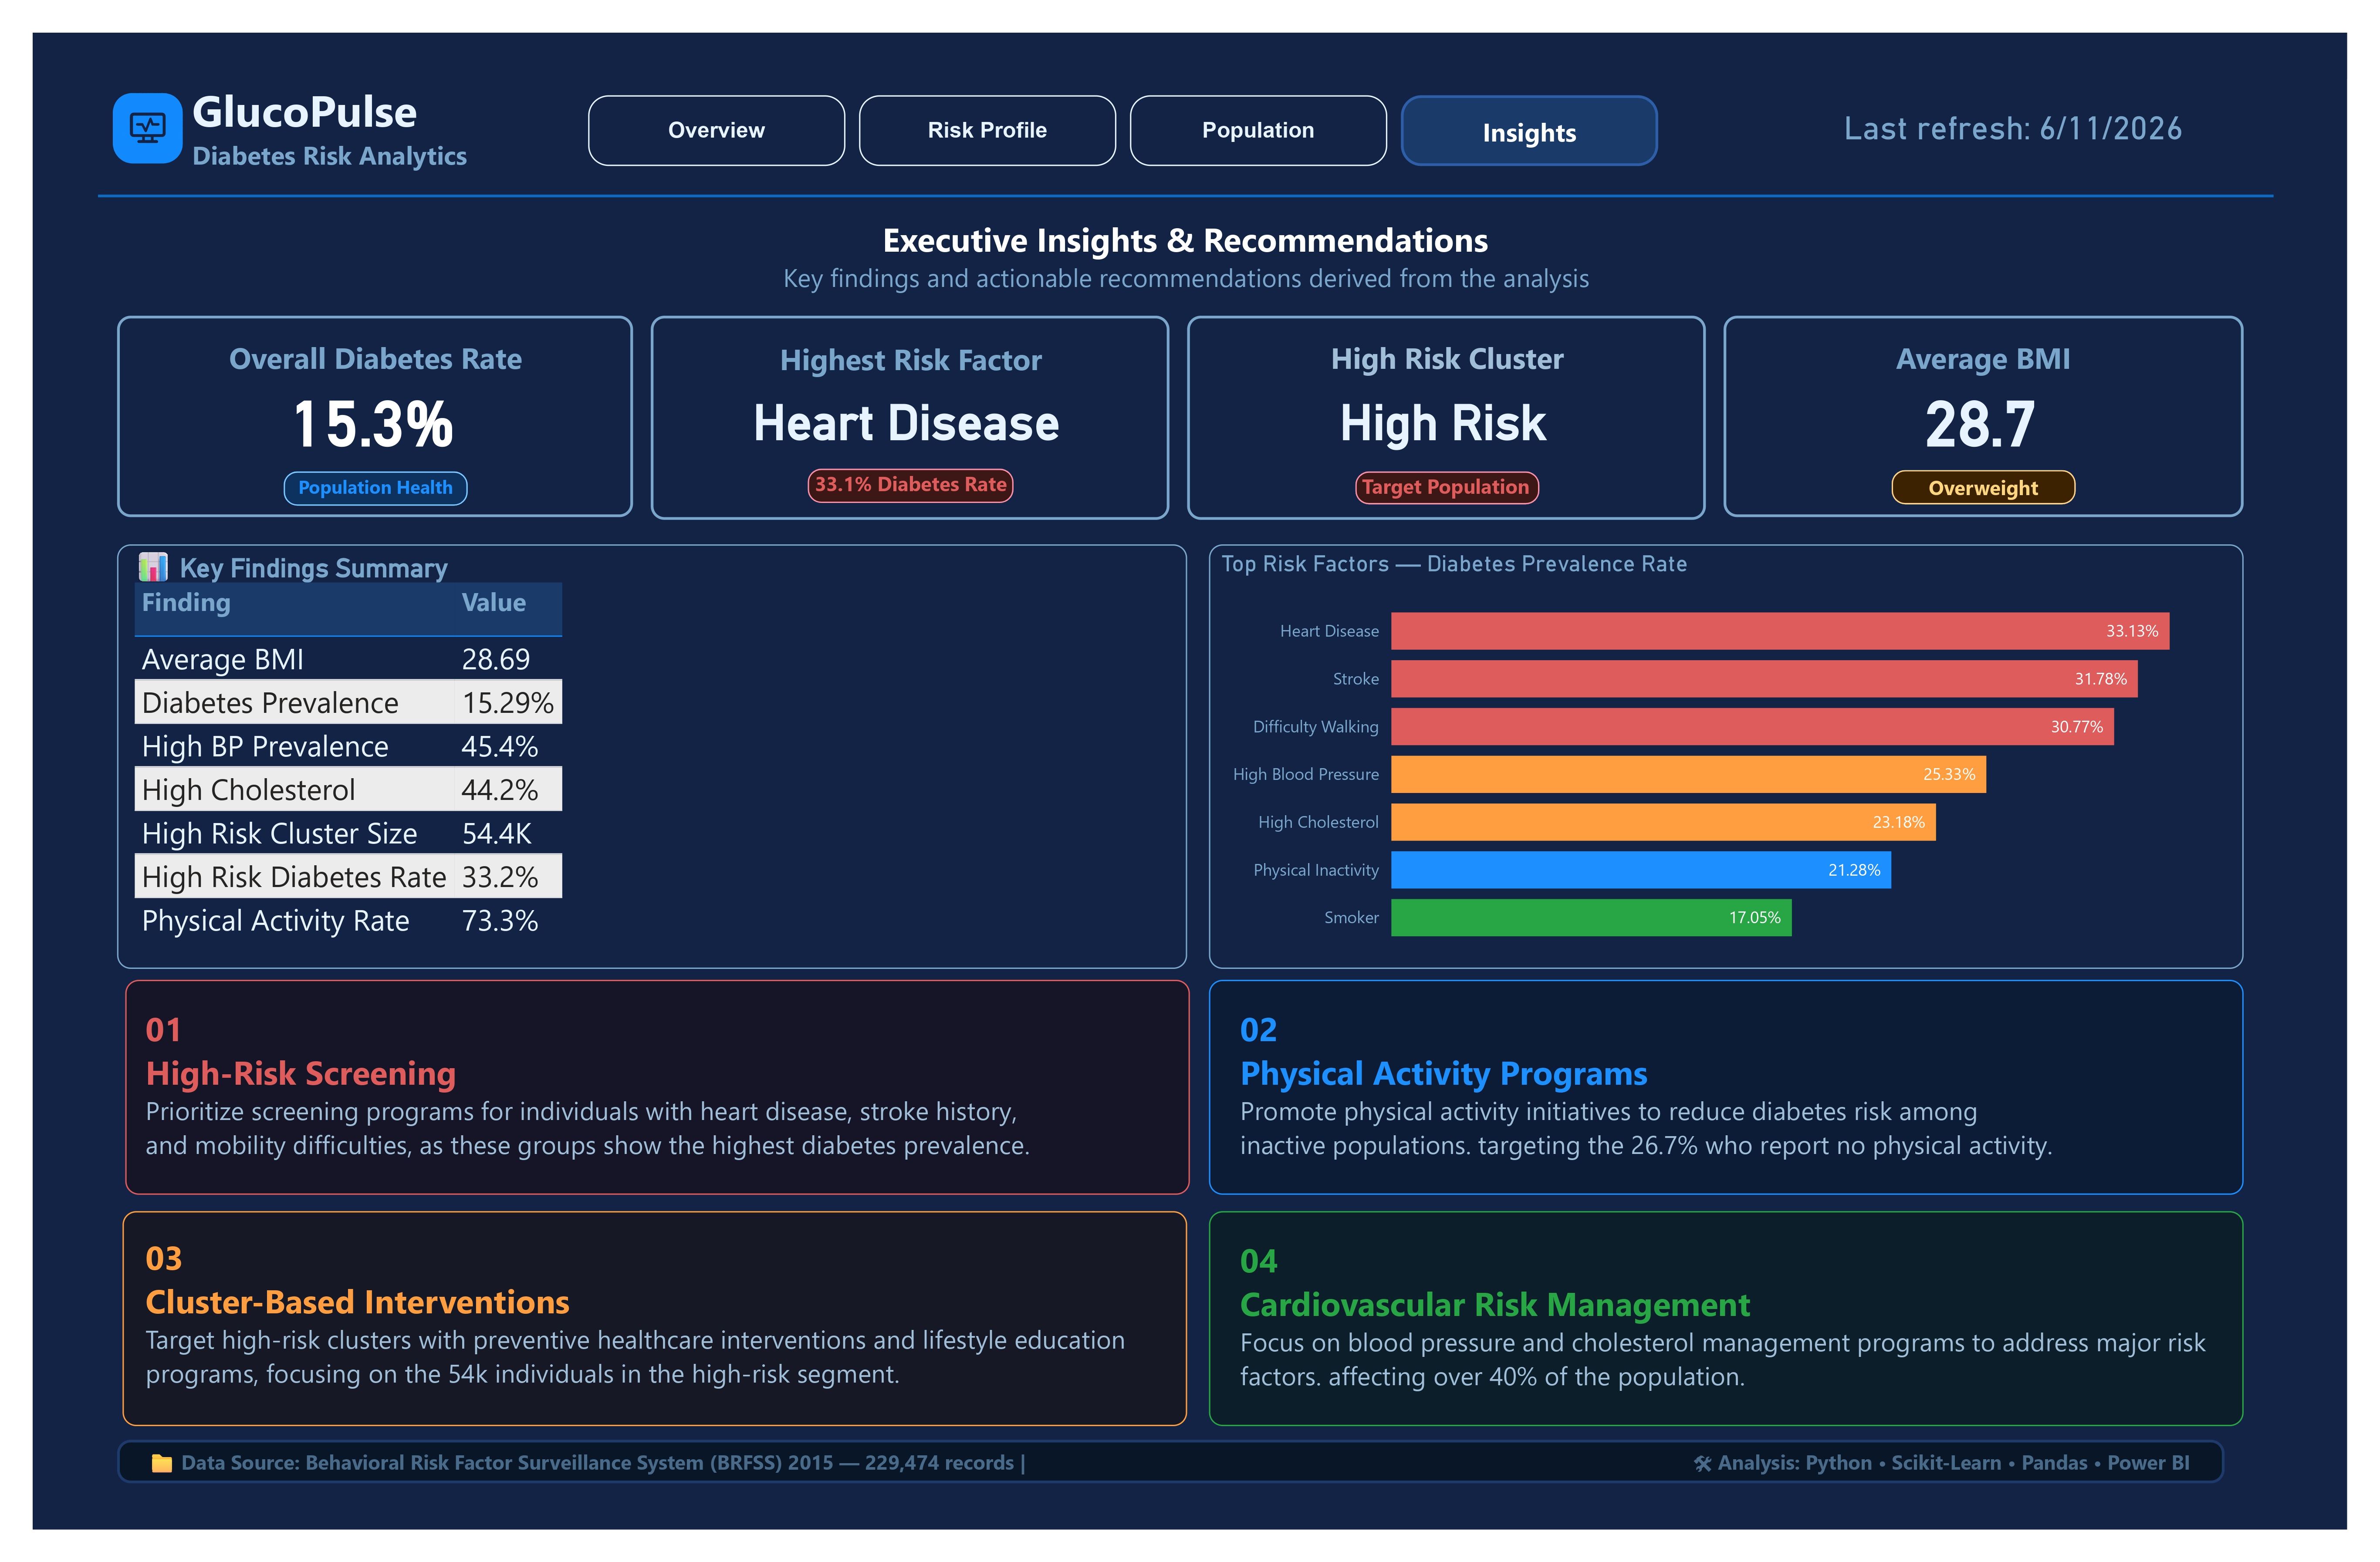

The page's visual inventory and layout, read from the dashboard file:
{"tool":"powerbi","page":{"name":"Insights","canvas":[1700,1100],"ordinal":3},"visuals":[{"type":"textbox","box":[112.5,29,228.4,78.4],"z":0},{"type":"pageNavigator","box":[408.1,46.2,788.1,51.9],"z":1000},{"type":"shape","box":[48,98,1598,44],"z":2000},{"type":"image","box":[0,4.4,167.8,147.2],"z":3000},{"type":"card","fields":{"Values":["dashboard_diabetes_data.Last Refresh"]},"box":[1260,16,390,106],"z":4000},{"type":"card","title":"Total Population","fields":{"Values":["dashboard_diabetes_data.Diabetes Rate %"]},"box":[62.4,208.1,379.1,147.6],"z":5000},{"type":"textbox","box":[78.8,219.2,346,40],"z":6000},{"type":"shape","box":[184.3,322,135.8,25.8],"z":7000},{"type":"textbox","box":[546,130,608,72],"z":8000},{"type":"card","title":"Total Population","fields":{"Values":["dashboard_diabetes_data.Highest Risk Factor"]},"box":[454.2,208.1,380.9,149.4],"z":9000},{"type":"textbox","box":[471.4,220,347.1,41.4],"z":10000},{"type":"card","title":"Total Population","fields":{"Values":["dashboard_diabetes_data.Highest Risk Cluster"]},"box":[847.9,208.1,380.9,149.4],"z":11000},{"type":"textbox","box":[864.8,219.2,348,44],"z":12000},{"type":"card","title":"Total Population","fields":{"Values":["dashboard_diabetes_data.Average BMI"]},"box":[1241.6,208.1,382.7,147.6],"z":13000},{"type":"textbox","box":[1268.8,219.2,328,40],"z":14000},{"type":"textbox","box":[182,321.3,140,33.3],"z":15000},{"type":"shape","box":[568.6,320,152.9,25.7],"z":16000},{"type":"shape","box":[970.8,321.7,135.8,25],"z":17000},{"type":"textbox","box":[948.3,319.2,179.2,36.7],"z":18000},{"type":"textbox","box":[568.6,317.1,152.9,41.4],"z":19000},{"type":"shape","box":[1364.8,321.2,136,26],"z":20000},{"type":"textbox","box":[1373.8,320.2,118,36],"z":21000},{"type":"tableEx","title":"📊 Key Findings Summary","fields":{"Values":["FindingsTable.Finding","FindingsTable.Value"]},"box":[62,376,786,312],"z":22000},{"type":"clusteredBarChart","title":"Top Risk Factors — Diabetes Prevalence Rate","fields":{"Category":["RiskFactorsTable.Risk Factor"],"Y":["dashboard_diabetes_data.Prevalence Rate"]},"box":[864,376,760,312],"z":23000},{"type":"shape","box":[68,696,782,158],"z":24000},{"type":"shape","box":[864,696,760,158],"z":25000},{"type":"textbox","box":[78,710,742,144],"z":26000},{"type":"textbox","box":[882,710,734,144],"z":27000},{"type":"shape","box":[66,866,782,158],"z":28000},{"type":"textbox","box":[78,878,742,128],"z":29000},{"type":"shape","box":[864,866,760,158],"z":30000},{"type":"textbox","box":[882,880,742,144],"z":31000},{"type":"shape","box":[62,1034,1548,32],"z":32000},{"type":"textbox","box":[80,1035,1585,35],"z":33000}]}

Visuals, with their boxes on the page's 1700x1100 design canvas (x1, y1, x2, y2). These are canvas units, not pixel positions in the 2380x1562 screenshot, which may show the page scaled, cropped or inside an application window:
textbox: <region>112, 29, 341, 107</region>
pageNavigator: <region>408, 46, 1196, 98</region>
shape: <region>48, 98, 1646, 142</region>
image: <region>0, 4, 168, 152</region>
card - dashboard_diabetes_data.Last Refresh: <region>1260, 16, 1650, 122</region>
"Total Population" card: <region>62, 208, 442, 356</region>
textbox: <region>79, 219, 425, 259</region>
shape: <region>184, 322, 320, 348</region>
textbox: <region>546, 130, 1154, 202</region>
"Total Population" card: <region>454, 208, 835, 358</region>
textbox: <region>471, 220, 818, 261</region>
"Total Population" card: <region>848, 208, 1229, 358</region>
textbox: <region>865, 219, 1213, 263</region>
"Total Population" card: <region>1242, 208, 1624, 356</region>
textbox: <region>1269, 219, 1597, 259</region>
textbox: <region>182, 321, 322, 355</region>
shape: <region>569, 320, 722, 346</region>
shape: <region>971, 322, 1107, 347</region>
textbox: <region>948, 319, 1128, 356</region>
textbox: <region>569, 317, 722, 358</region>
shape: <region>1365, 321, 1501, 347</region>
textbox: <region>1374, 320, 1492, 356</region>
"📊 Key Findings Summary" tableEx: <region>62, 376, 848, 688</region>
"Top Risk Factors — Diabetes Prevalence Rate" clusteredBarChart: <region>864, 376, 1624, 688</region>
shape: <region>68, 696, 850, 854</region>
shape: <region>864, 696, 1624, 854</region>
textbox: <region>78, 710, 820, 854</region>
textbox: <region>882, 710, 1616, 854</region>
shape: <region>66, 866, 848, 1024</region>
textbox: <region>78, 878, 820, 1006</region>
shape: <region>864, 866, 1624, 1024</region>
textbox: <region>882, 880, 1624, 1024</region>
shape: <region>62, 1034, 1610, 1066</region>
textbox: <region>80, 1035, 1665, 1070</region>
